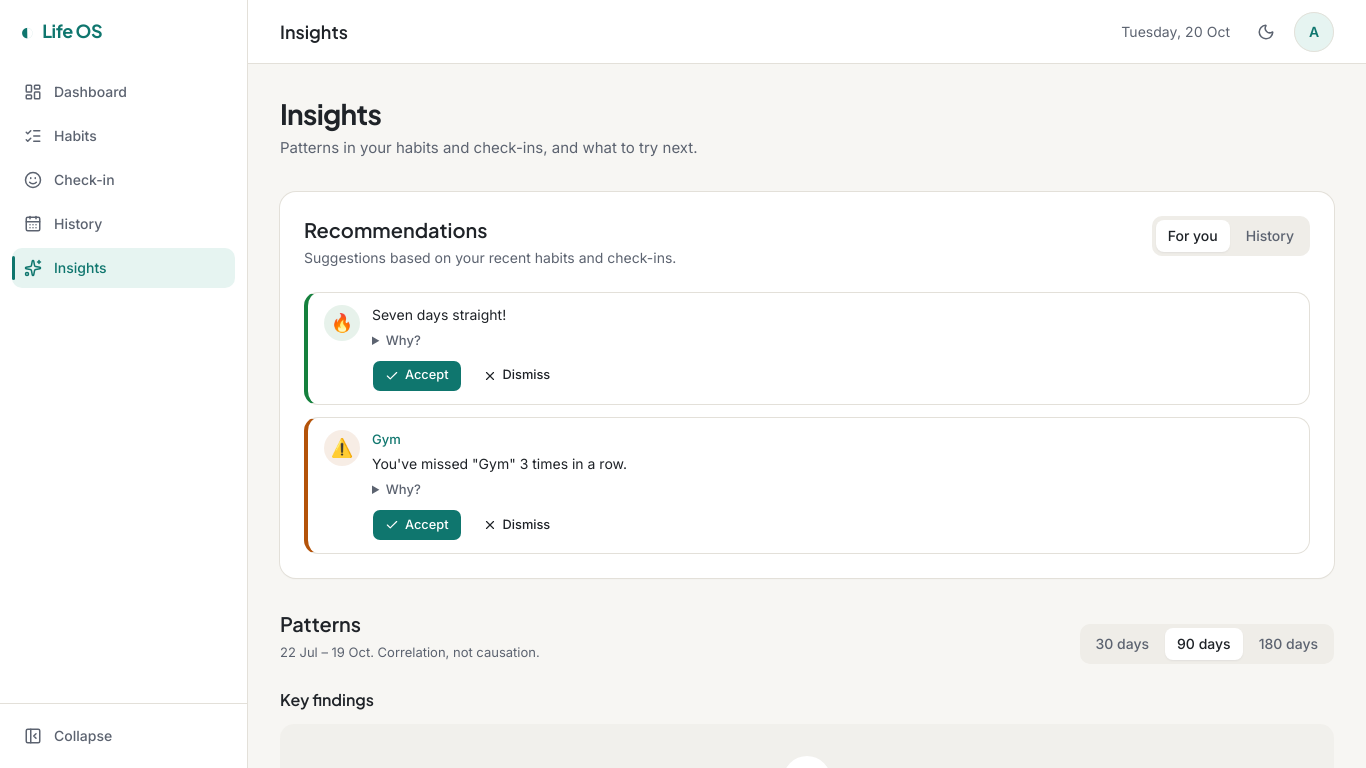
Scenario: InsightsPage – recommendations › shows pending recommendations newest first with icon, habit link and reason
Expected: the element showing "🔥 Seven days straight! Why? Accept Dismiss" is shown, [304, 292, 1310, 405]
Expected: the element named "You've missed \"Gym\" 3 times in a row." shows "⚠️", [331, 437, 353, 458]
What coordinates should you click on to do the following:
click the heading "Why?" below "You've missed \"Gym\" 3 times in a row."
I would click on:
 (403, 489)
Its box is [386, 481, 421, 497].
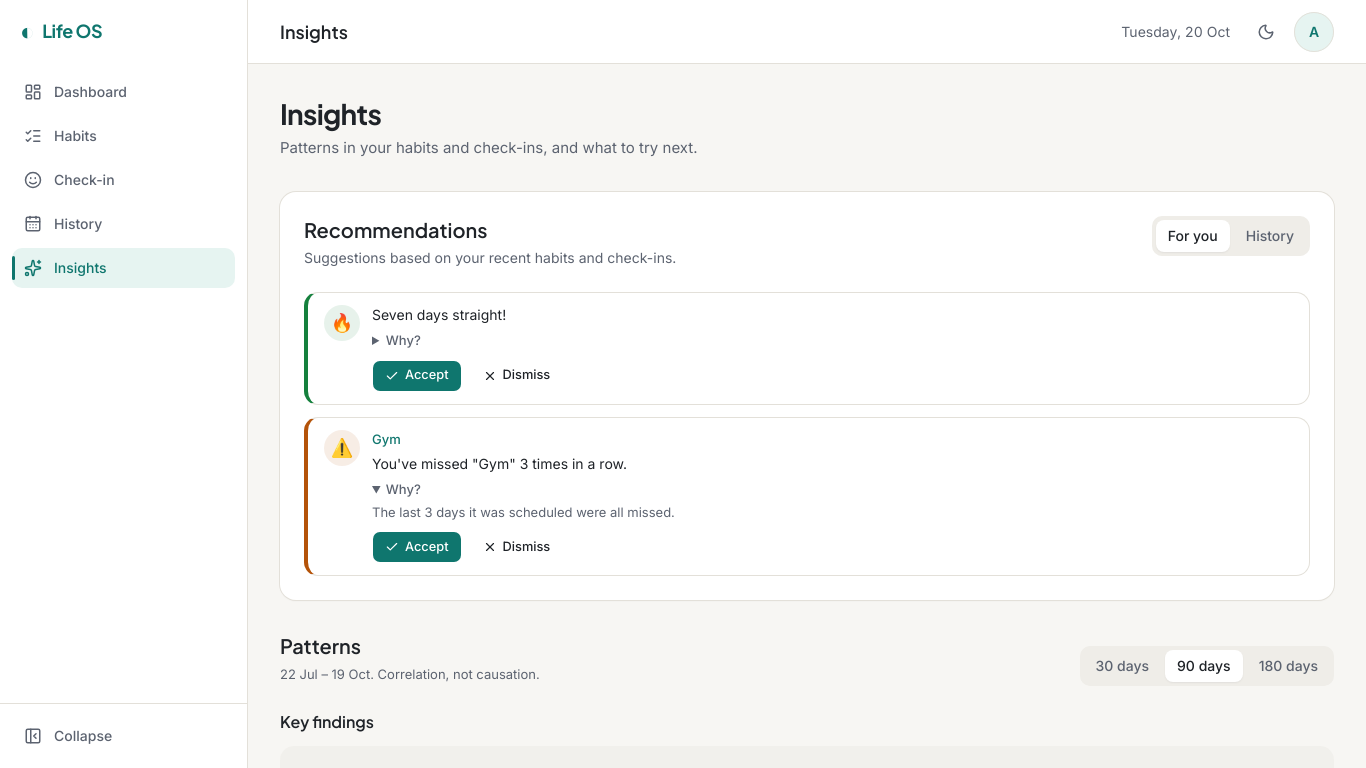
Expected: the text "The last 3 days it was scheduled were all missed." is shown, [372, 504, 675, 520]
